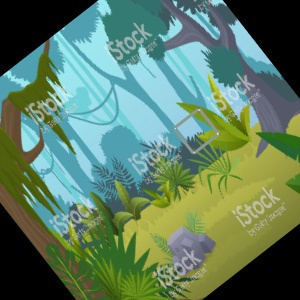square: (171, 106, 222, 156)
